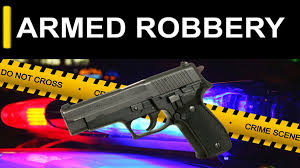gun: (57, 57, 237, 163)
